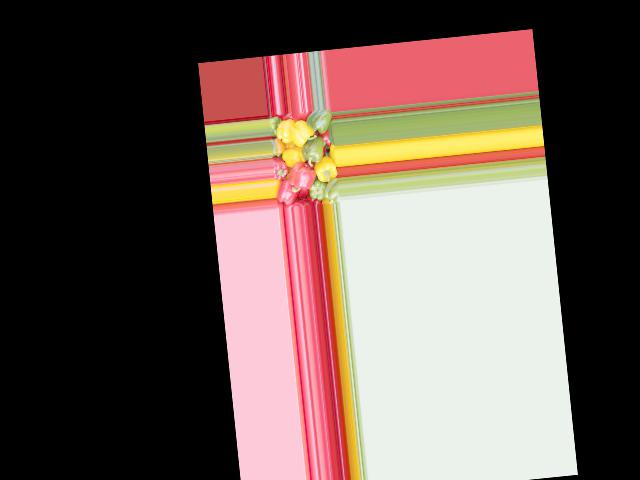bell_pepper: (268, 117, 281, 139)
